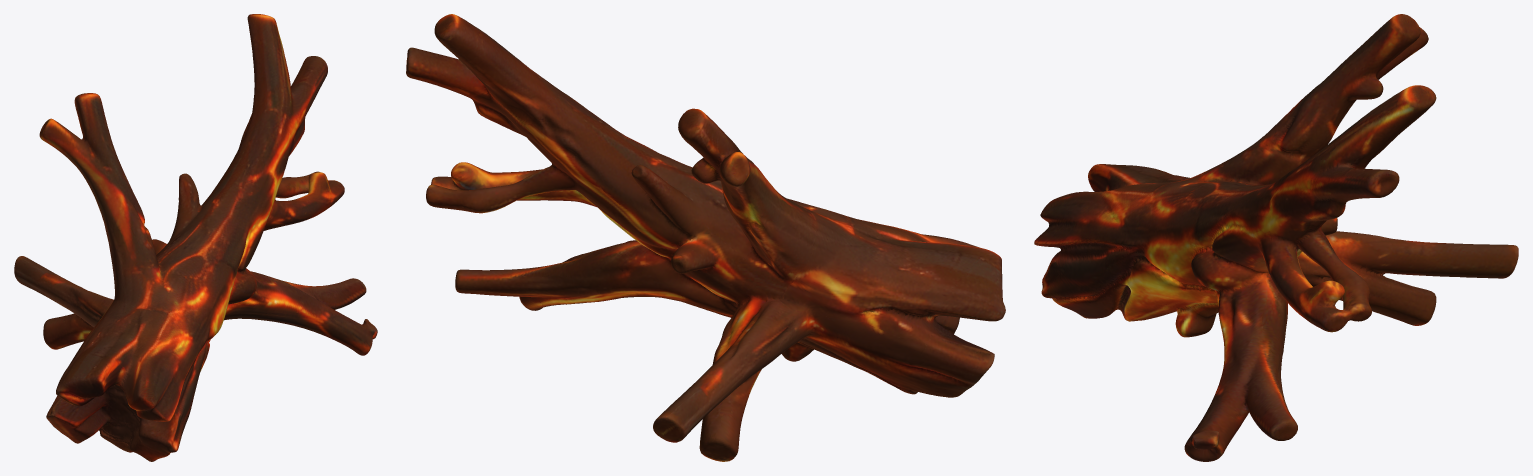
Rendered from FallenBranch_Burning.fbx.
3 renders of one model, left to right at view 1: azimuth 30°, elevation 25°; view 2: azimuth 150°, elevation 25°; view 3: azimuth 270°, elevation 25°, orthographic. The views are drawn at different scales.
Visible parts, largest first — view 1: mesh_node.002; view 2: mesh_node.002; view 3: mesh_node.002.
Part boxes in pixels (x1,y1,x2,y2): mesh_node.002: (14,14,377,461); mesh_node.002: (406,14,1005,461); mesh_node.002: (1034,14,1518,461).
Size of the model in its own units: 53.32 by 42.31 by 48.45.
